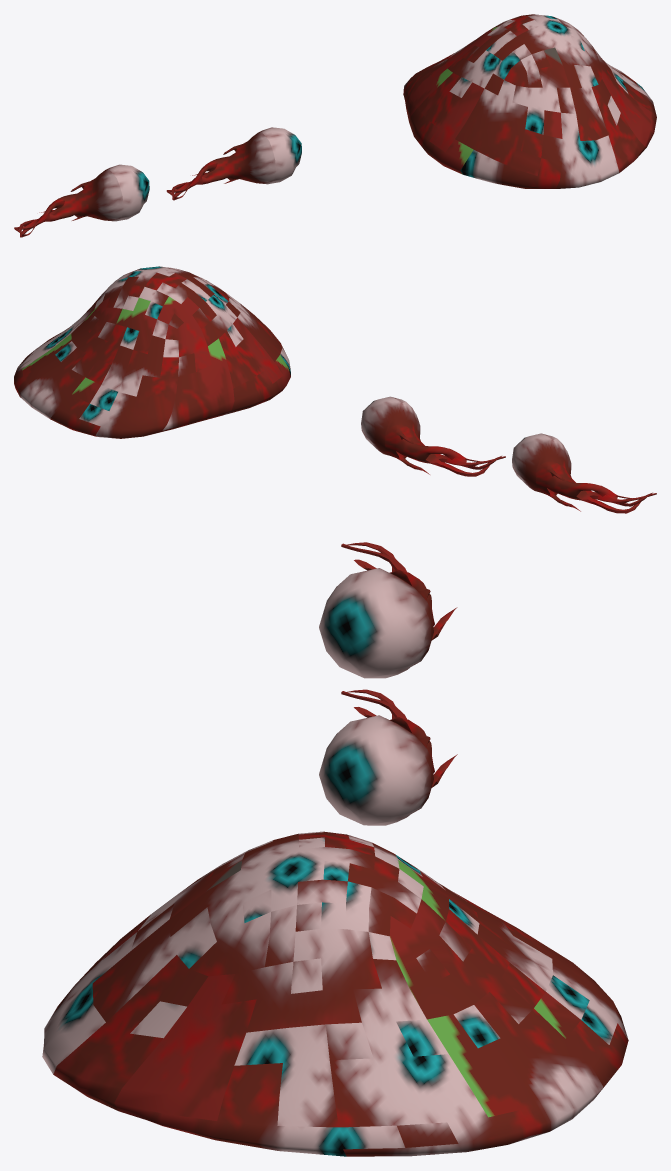
The model's file is SM_Eyeball.fbx.
3 views of the same model, one above another, from view 1: azimuth 30°, elevation 25°; view 2: azimuth 150°, elevation 25°; view 3: azimuth 270°, elevation 25° (orthographic). The views are drawn at different scales.
Parts seen in each view (by area): view 1: Heart_mushed, Eyeball_whole, Eyeball_slice02, Eyeball_slice03, Eyeball_slice01; view 2: Heart_mushed, Eyeball_whole, Eyeball_slice02, Eyeball_slice03, Eyeball_slice01; view 3: Heart_mushed, Eyeball_whole, Eyeball_slice03.
Part boxes in pixels (x1,y1,x2,y2): Heart_mushed: (403,14,656,188); Eyeball_whole: (14,164,149,237); Eyeball_slice02: (192,132,275,184); Eyeball_slice03: (255,127,301,183); Eyeball_slice01: (166,170,202,200); Heart_mushed: (14,266,290,438); Eyeball_whole: (512,433,656,513); Eyeball_slice02: (385,402,448,474); Eyeball_slice03: (361,396,405,455); Eyeball_slice01: (443,448,505,476); Heart_mushed: (42,831,628,1156); Eyeball_whole: (319,542,457,678); Eyeball_slice03: (319,715,433,825).
Bounding box in the file's own units: 37.37 × 6.47 × 15.41.
